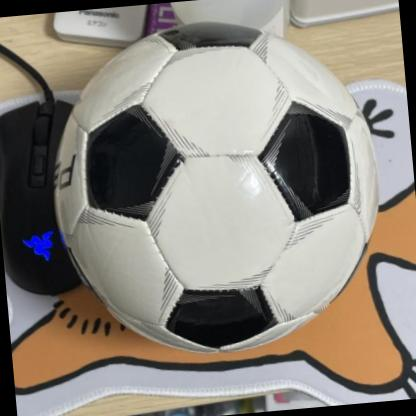ball: (37, 8, 391, 368)
